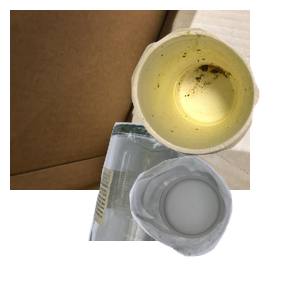cardboard: (10, 10, 250, 190)
glass: (86, 120, 277, 300)
plastic: (127, 154, 300, 300)
trash: (129, 25, 300, 173)
